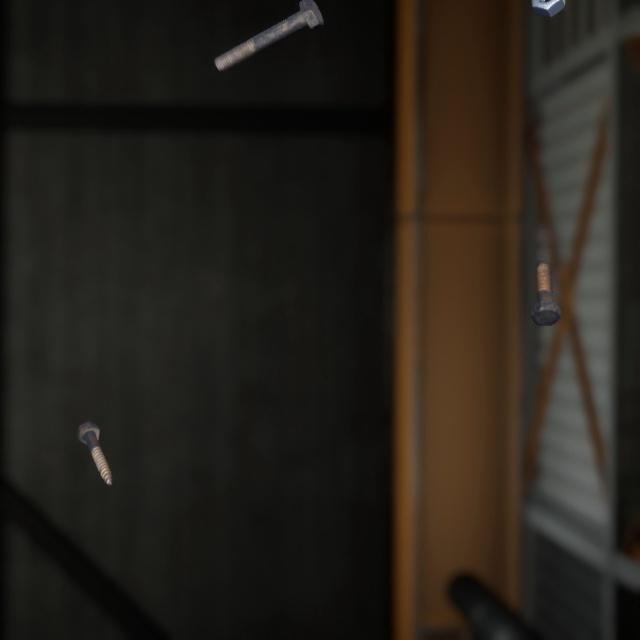bolt: (209, 0, 327, 66), (73, 397, 117, 468), (526, 241, 565, 313)
